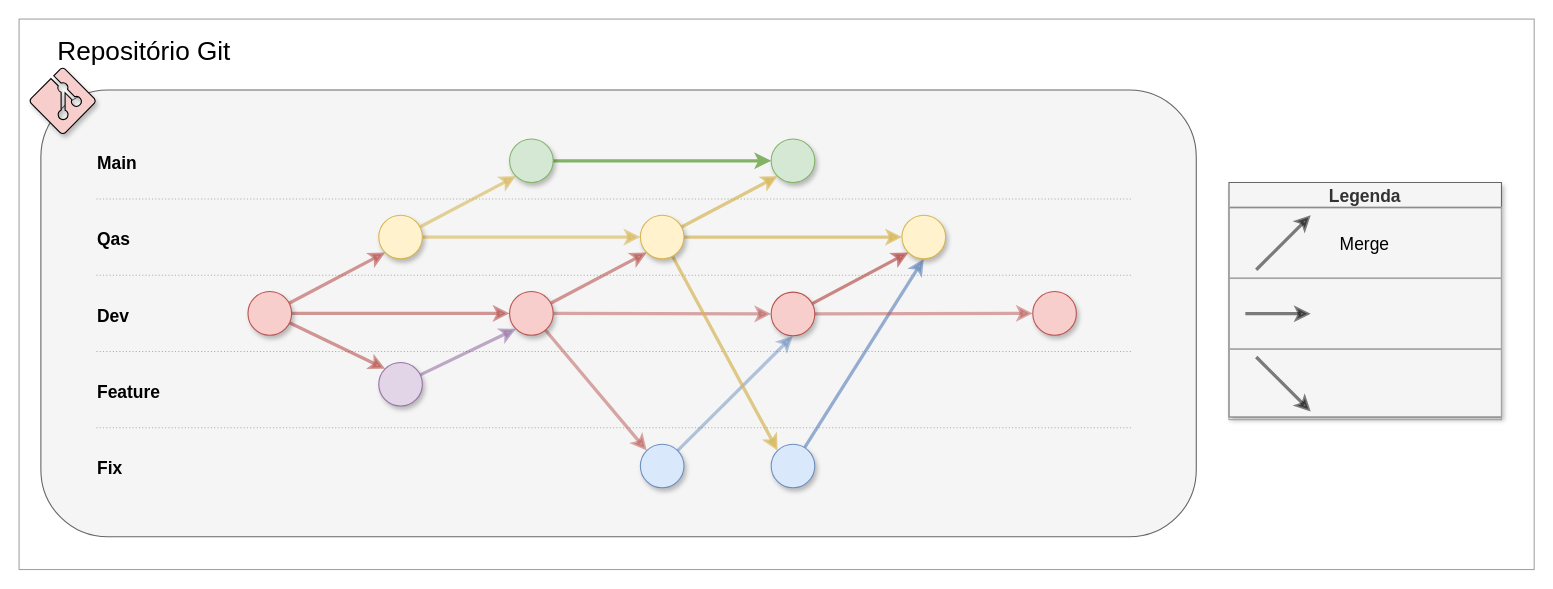
This 1553x589 diagram has some shape labels left out. The centre of each missing label's shape, as x and y in pixels:
"Lineage" belongs at pixel 1364 313.
"New Branch from" belongs at pixel 1364 384.
